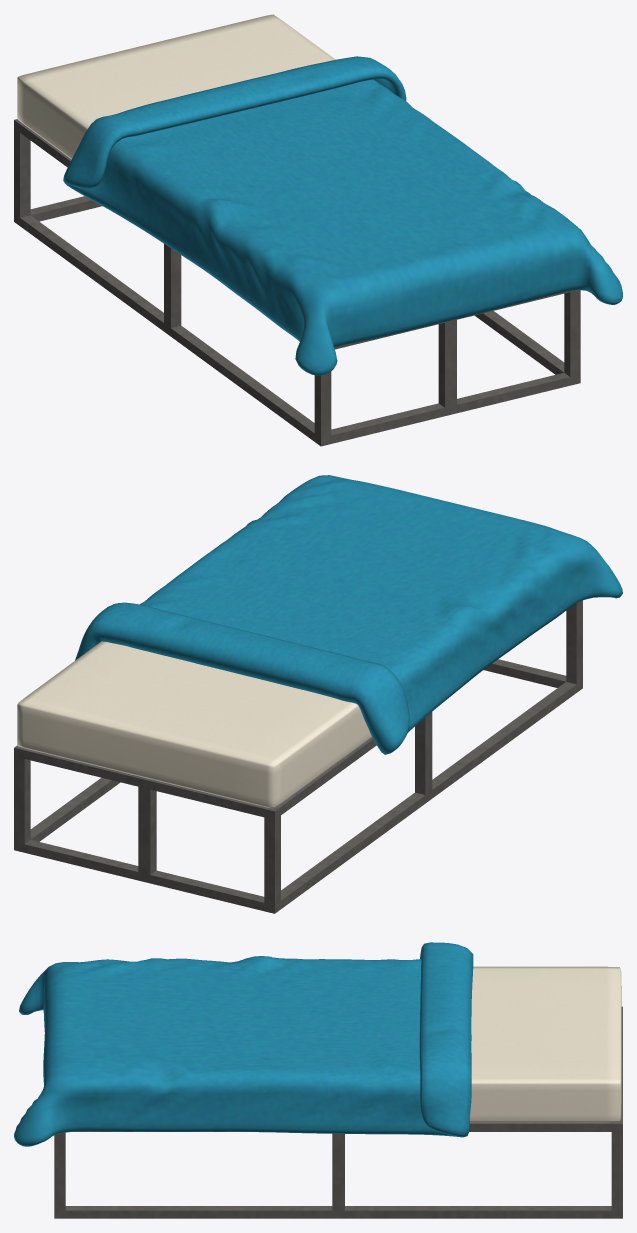
The model's file is Bed09.fbx.
The picture shows the model from 3 angles, top to bottom: view 1: azimuth 30°, elevation 25°; view 2: azimuth 150°, elevation 25°; view 3: azimuth 270°, elevation 25°; orthographic projection. The views are drawn at different scales.
Visible parts, largest first — view 1: Blanket09, BedFrame09, Mattress09; view 2: Blanket09, Mattress09, BedFrame09; view 3: Blanket09, Mattress09, BedFrame09.
Boxes of the visible parts, x1,y1,x2,y2 form: Blanket09: [63, 56, 622, 375]; BedFrame09: [14, 119, 580, 446]; Mattress09: [17, 14, 335, 159]; Blanket09: [75, 475, 622, 754]; Mattress09: [17, 641, 372, 808]; BedFrame09: [14, 600, 582, 913]; Blanket09: [14, 942, 473, 1146]; Mattress09: [470, 966, 621, 1122]; BedFrame09: [54, 1006, 622, 1218].
Size of the model in its own units: 139 by 69.72 by 240.
